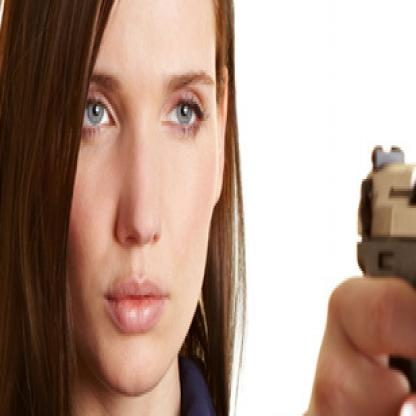gun: (347, 133, 415, 414)
